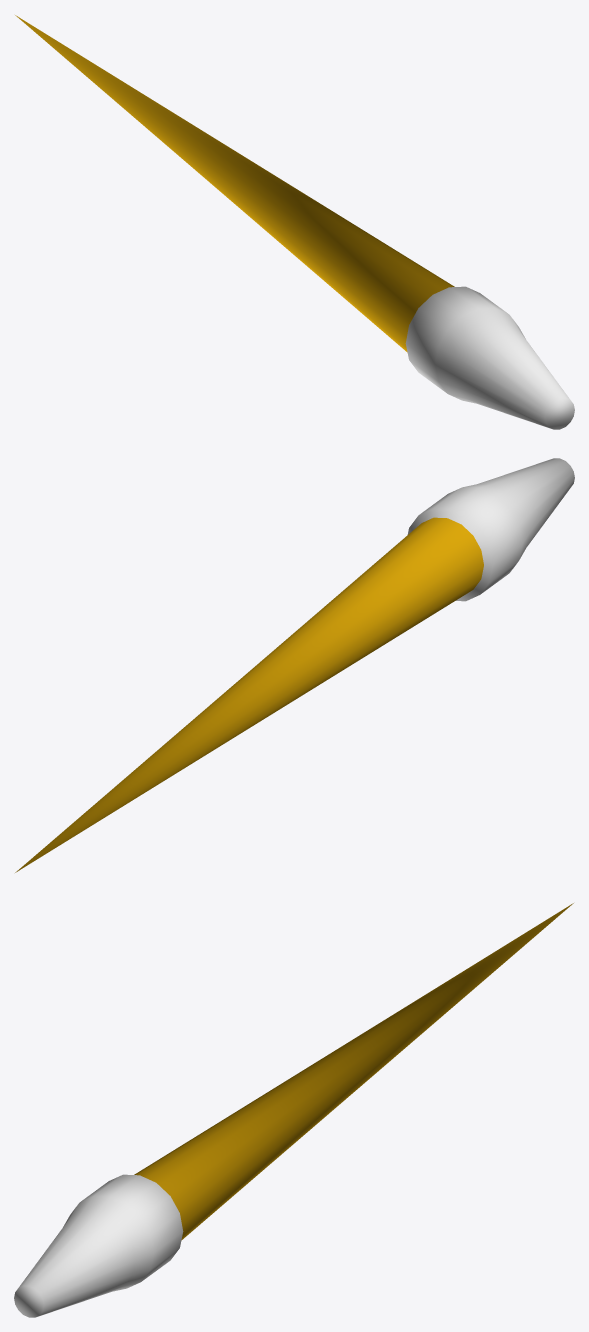
File: 01_bullet_untresnafol_vokadeer.glb
3 views of the same model, one above another, from view 1: azimuth 30°, elevation 25°; view 2: azimuth 150°, elevation 25°; view 3: azimuth 330°, elevation 25° (orthographic).
Visible parts, largest first — view 1: 01_bullet_untresnafol_vokadeer; view 2: 01_bullet_untresnafol_vokadeer; view 3: 01_bullet_untresnafol_vokadeer.
Part boxes in pixels (x1,y1,x2,y2): 01_bullet_untresnafol_vokadeer: (15, 15, 574, 429); 01_bullet_untresnafol_vokadeer: (15, 458, 574, 872); 01_bullet_untresnafol_vokadeer: (14, 903, 573, 1317).
Size of the model in its own units: 0.588 by 0.588 by 6.38.
